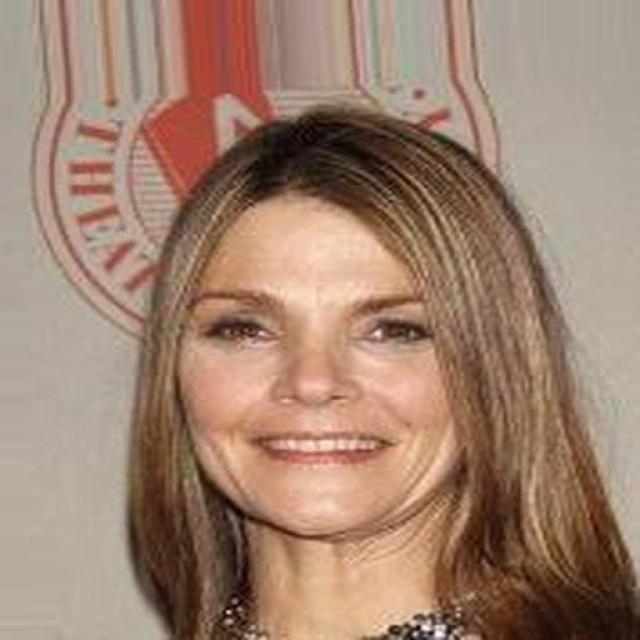bareface: (175, 144, 480, 528)
